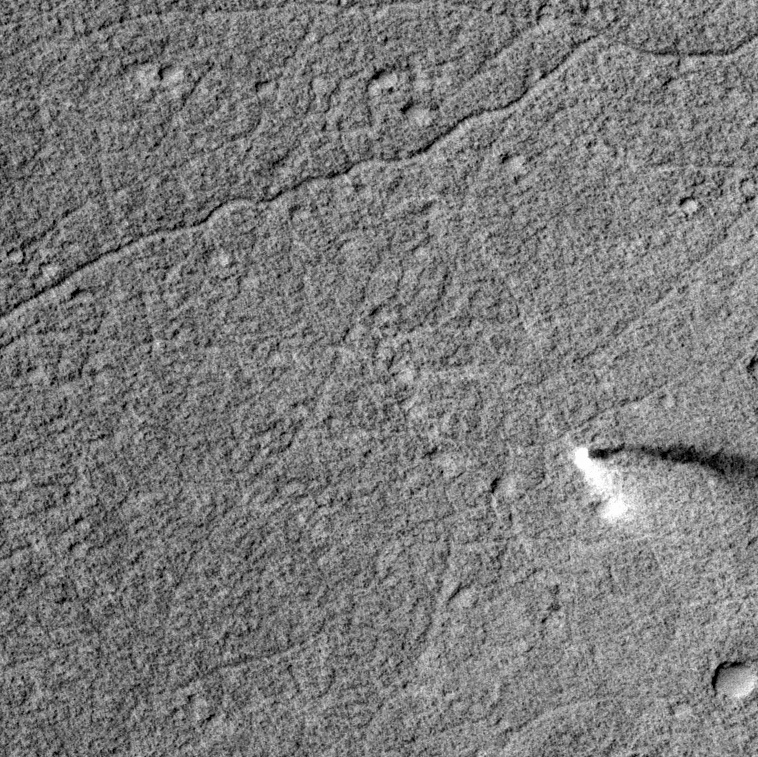dust_devil: (570, 439, 758, 525)
